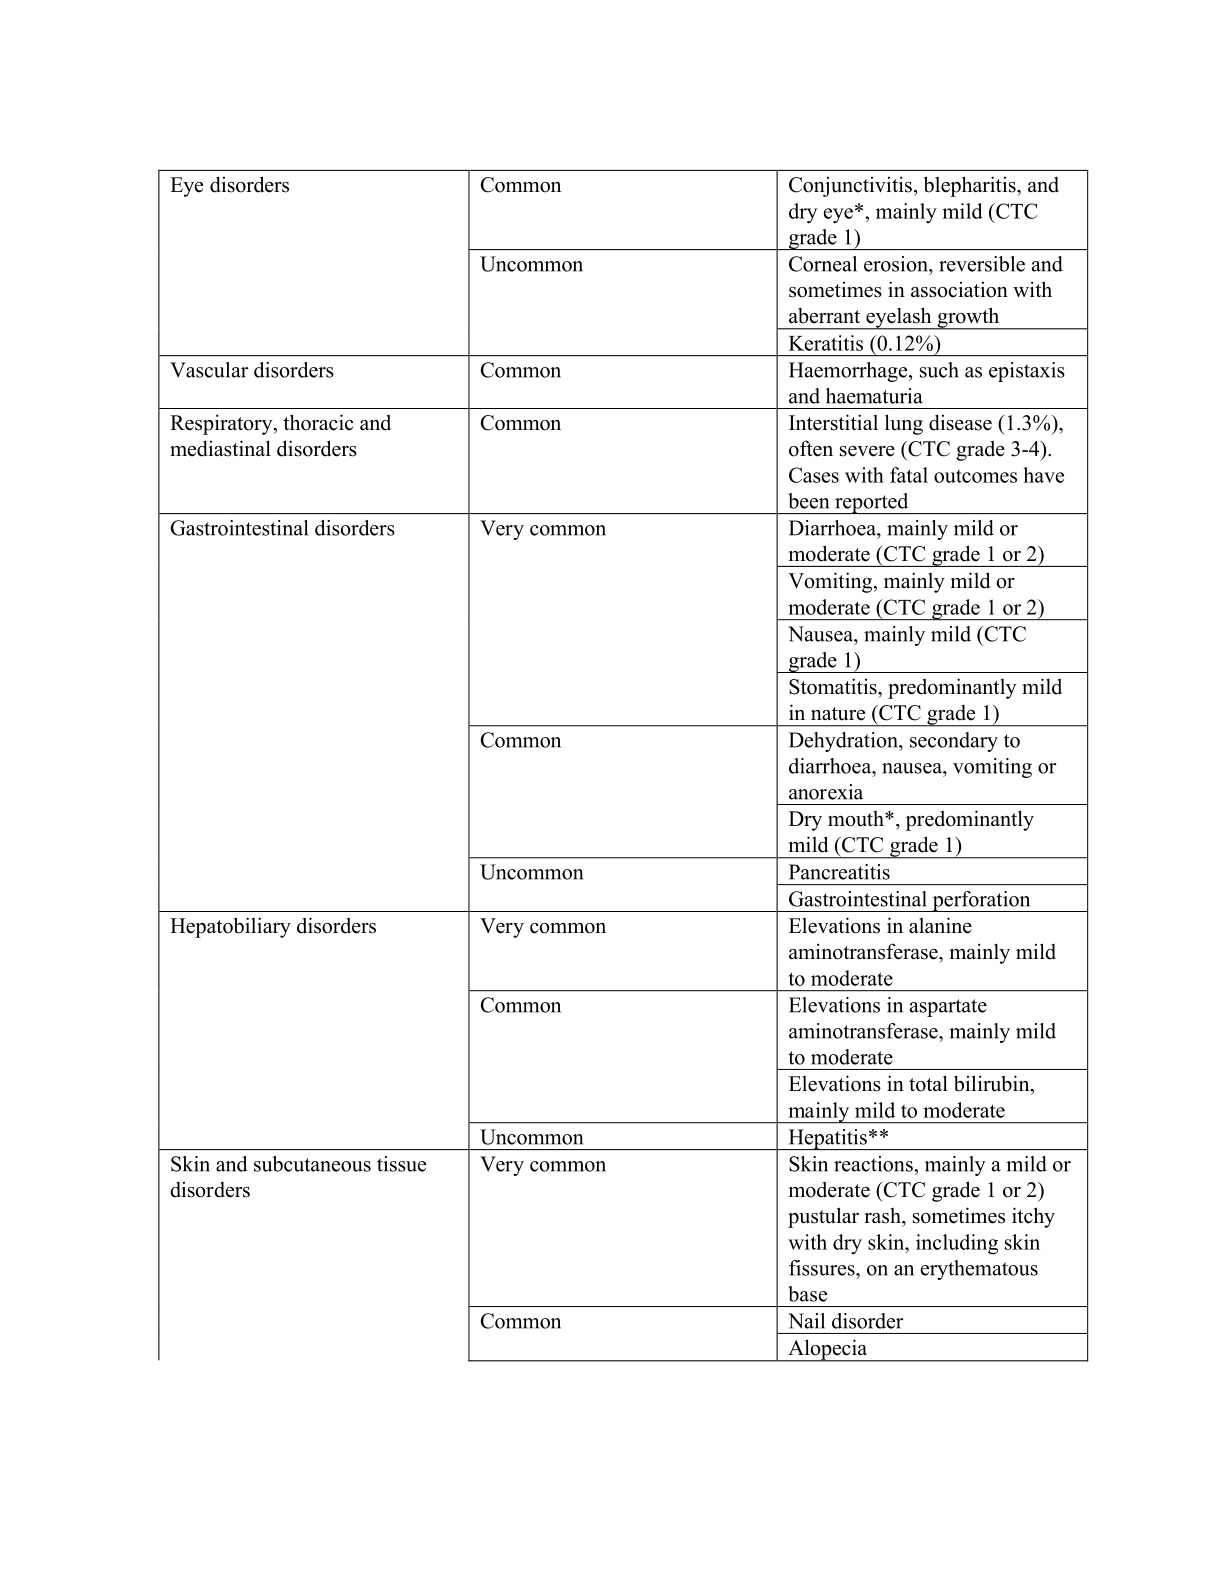merged_cells: (156, 163, 1092, 1367)
